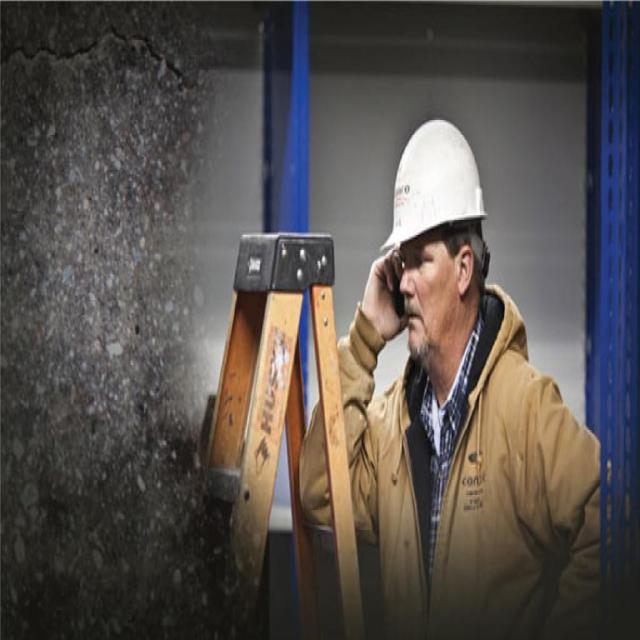Face: (392, 225, 499, 367)
